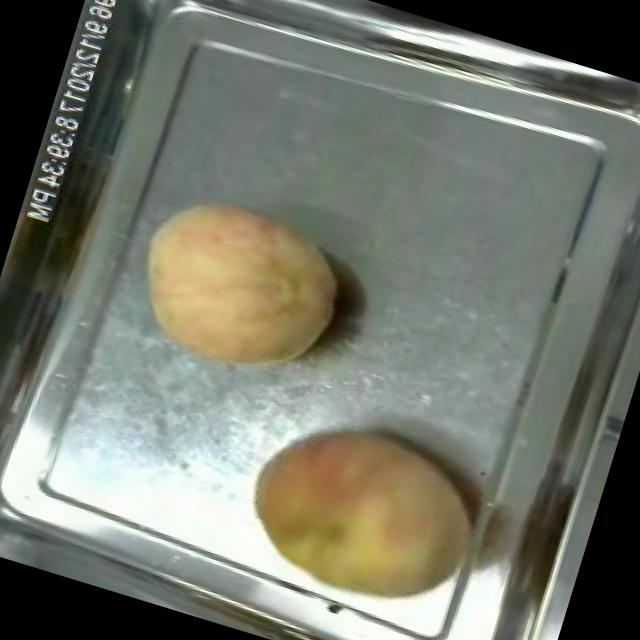Fruit: (223, 389, 498, 640), (110, 171, 362, 401)
